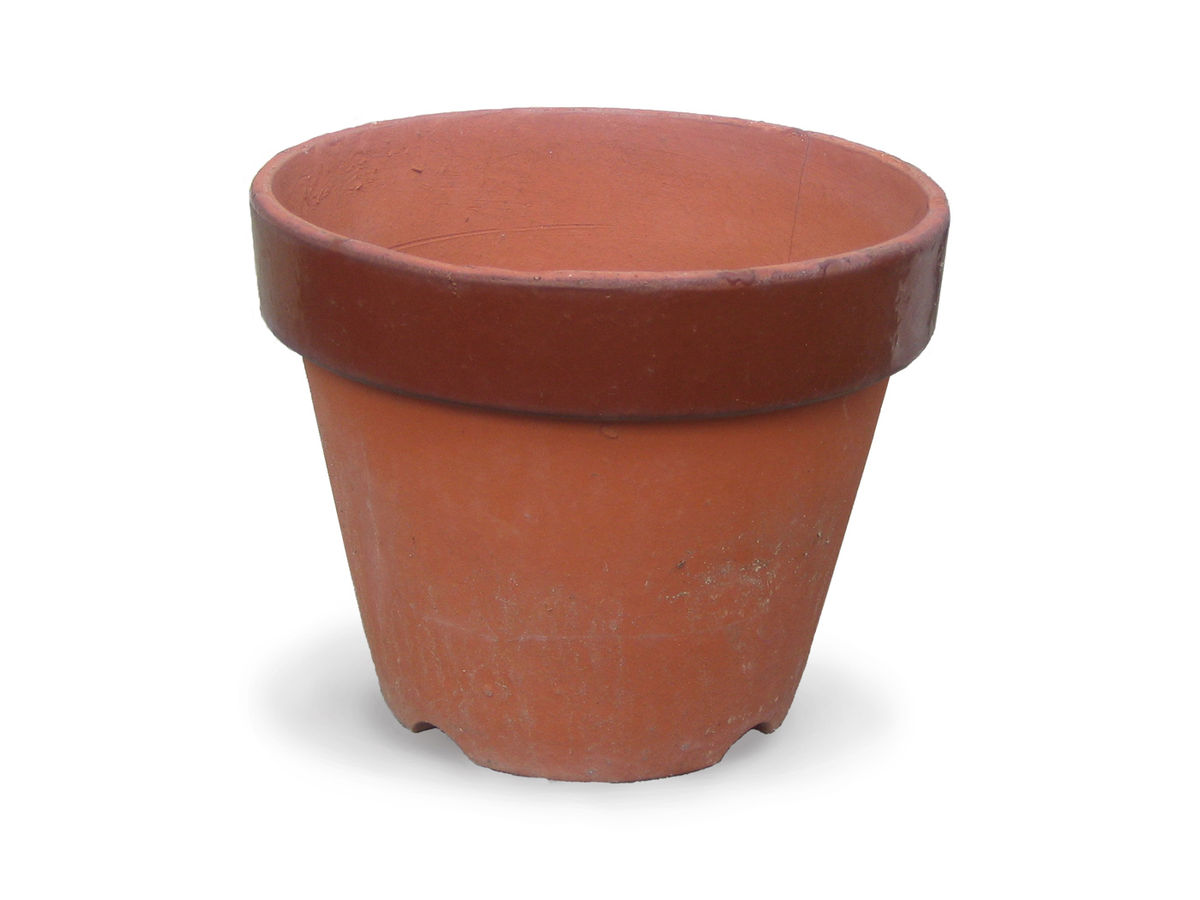tire: (242, 105, 953, 784)
